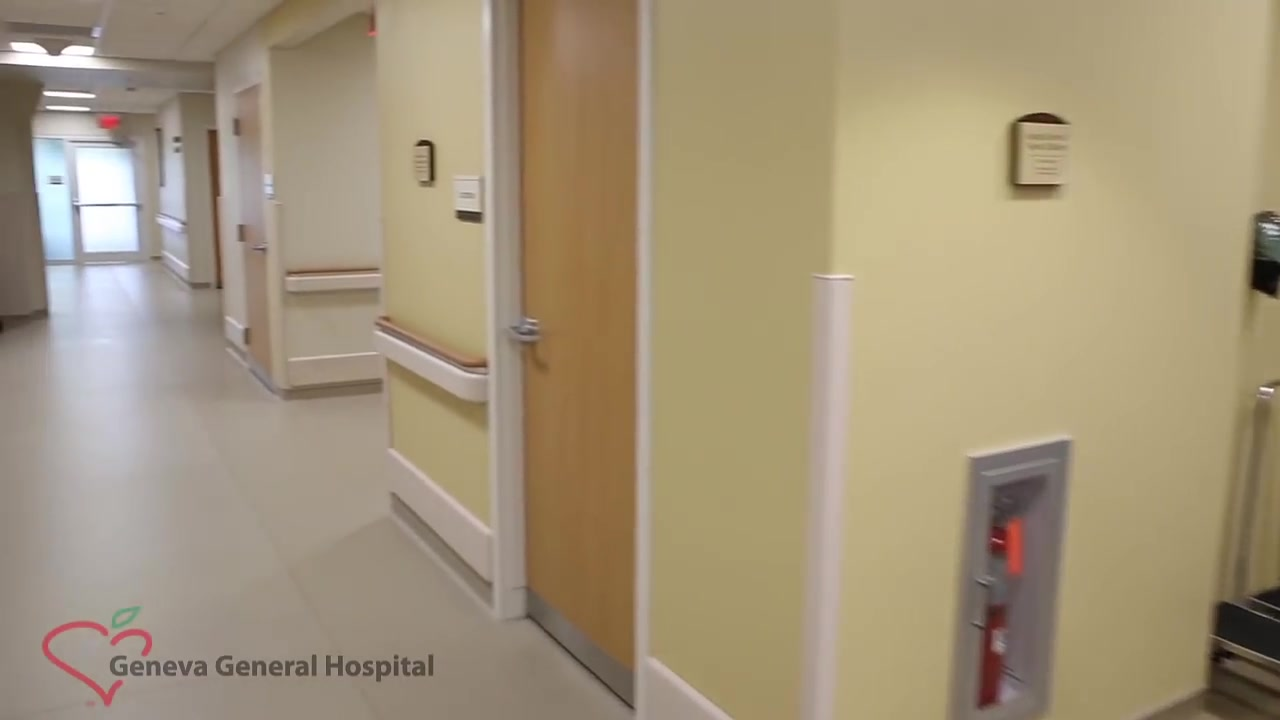door_handle: (504, 322, 545, 346), (250, 244, 267, 253)
hallway_assist_bar: (371, 311, 491, 404), (283, 266, 383, 296), (154, 212, 188, 233)
